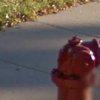Hydrant: (47, 27, 100, 100)
